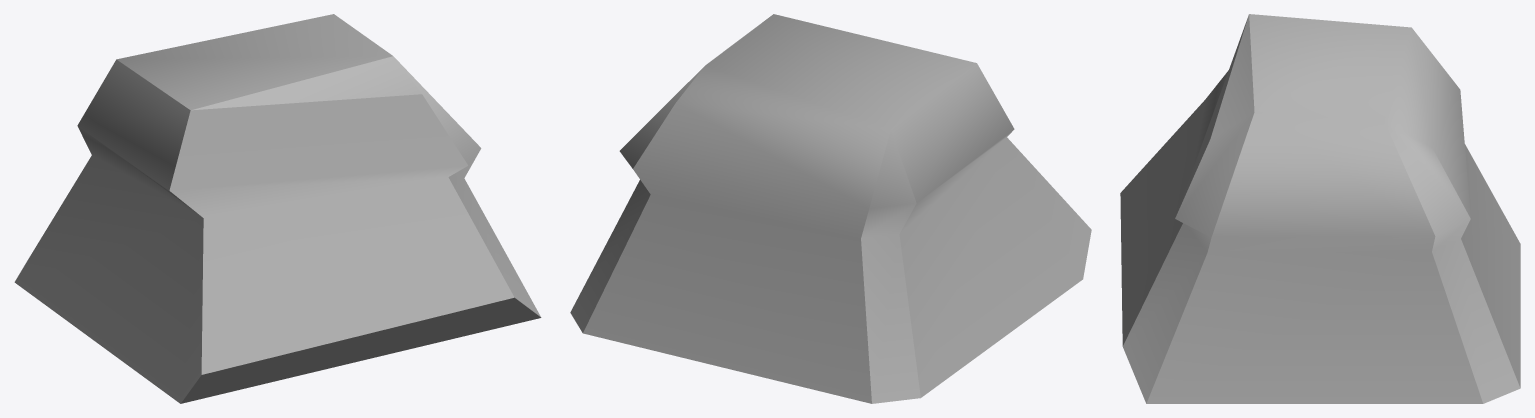
Rendered from Ground Stone 2.fbx.
The picture shows the model from 3 angles, left to right: view 1: azimuth 30°, elevation 25°; view 2: azimuth 150°, elevation 25°; view 3: azimuth 270°, elevation 25°; orthographic projection. The views are drawn at different scales.
Visible parts, largest first — view 1: Ground_Stone_2; view 2: Ground_Stone_2; view 3: Ground_Stone_2.
Boxes of the visible parts, <box> form: Ground_Stone_2: <box>14,14,541,403</box>; Ground_Stone_2: <box>570,14,1091,403</box>; Ground_Stone_2: <box>1120,14,1520,403</box>.
Bounding box in the file's own units: 1.3 × 0.8484 × 1.25.
